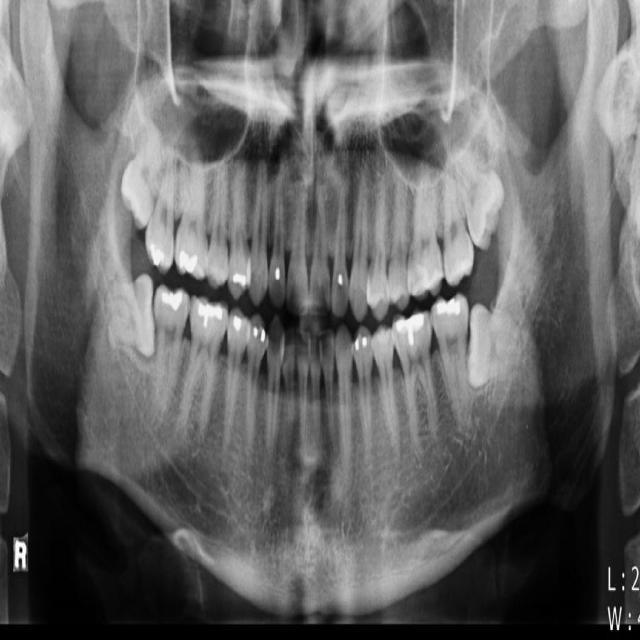3M ESPE Implant: (115, 118, 168, 231)
52: (181, 291, 233, 347), (425, 290, 478, 341), (387, 309, 436, 361), (149, 284, 193, 330), (142, 217, 176, 275), (174, 226, 208, 281), (225, 307, 252, 357), (227, 248, 251, 299), (245, 313, 269, 363), (352, 325, 375, 375), (330, 268, 351, 317), (267, 256, 287, 306)
BioHorizons Implant: (443, 174, 474, 284)
BioLife Implant: (447, 135, 518, 253)
Biomet 3i Implant: (463, 302, 524, 393)
Blue Sky Bio Implant: (430, 292, 470, 426)
Caries: (143, 146, 180, 276)
Implant: (153, 286, 194, 405)
Keystone Dental Implant: (106, 272, 157, 360)
